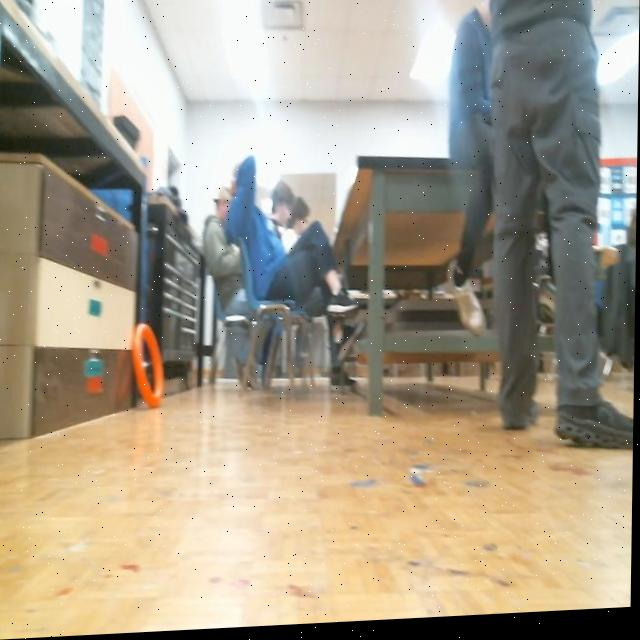note: (133, 322, 166, 411)
